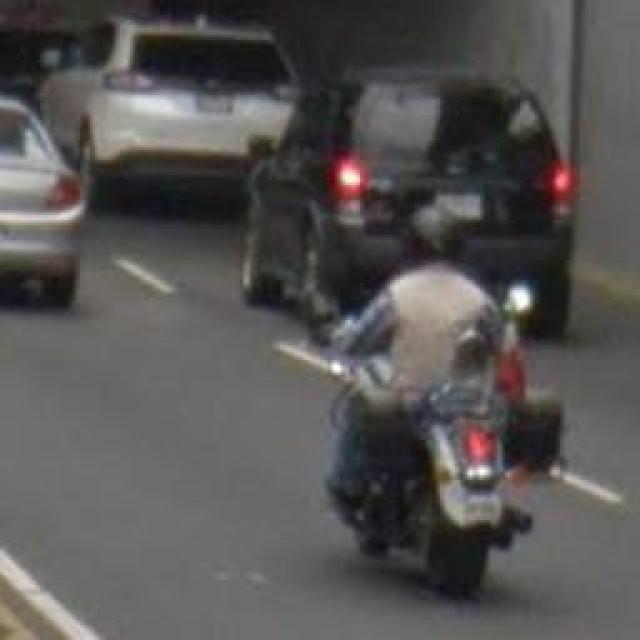car: (227, 53, 585, 340), (40, 13, 307, 214), (0, 75, 96, 328)
motorbike: (288, 257, 577, 608)
